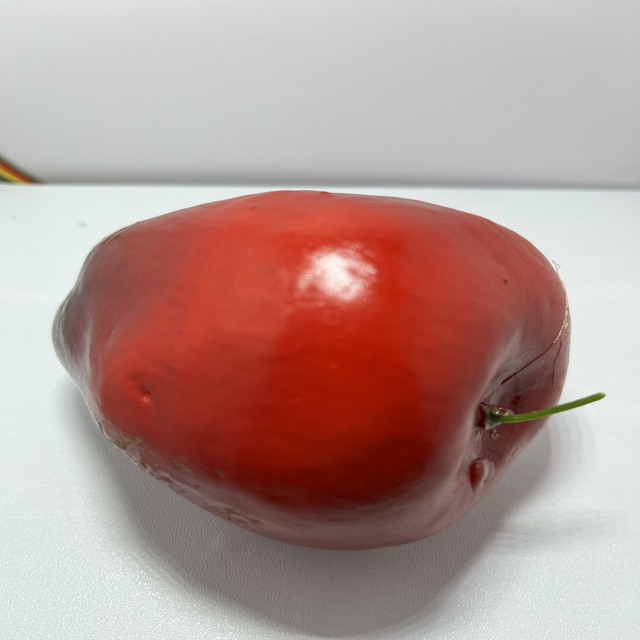Tao: (47, 188, 573, 557)
